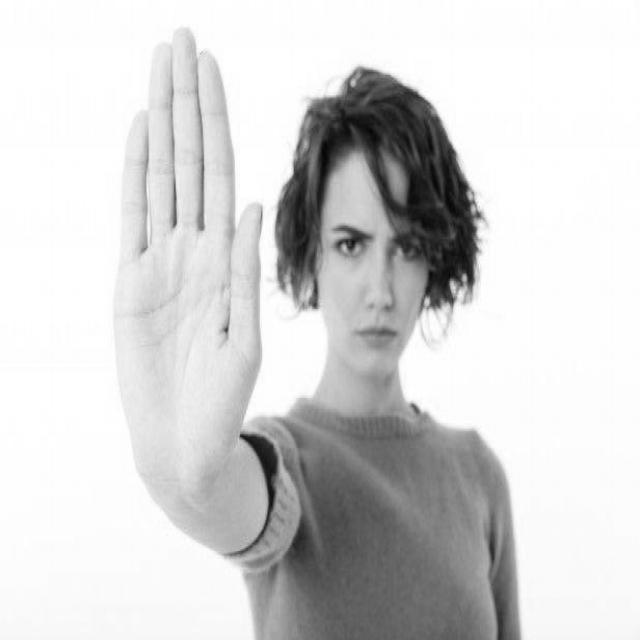stop: (105, 21, 266, 494)
